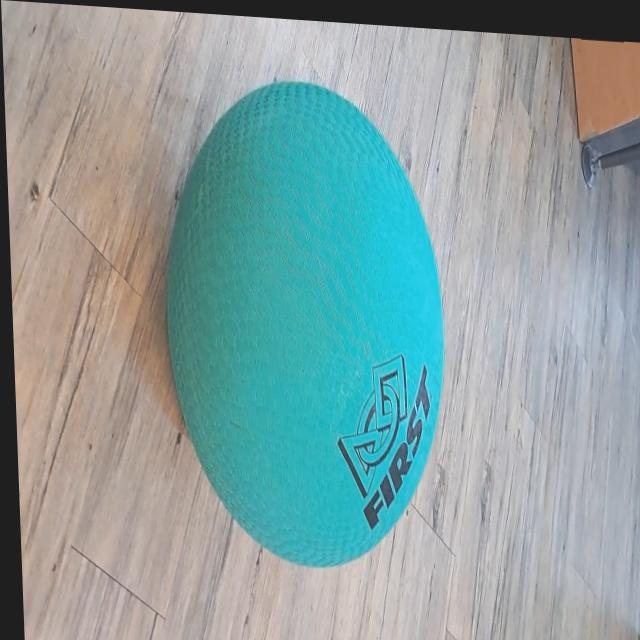ALGAE: (155, 69, 454, 579)
